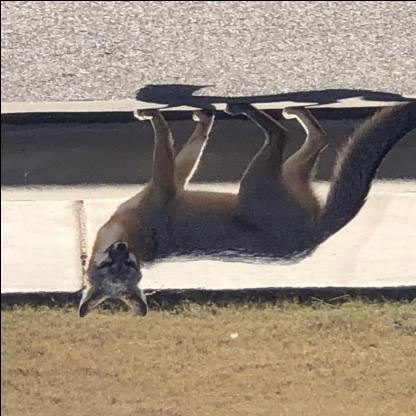zorro: (76, 91, 406, 328)
